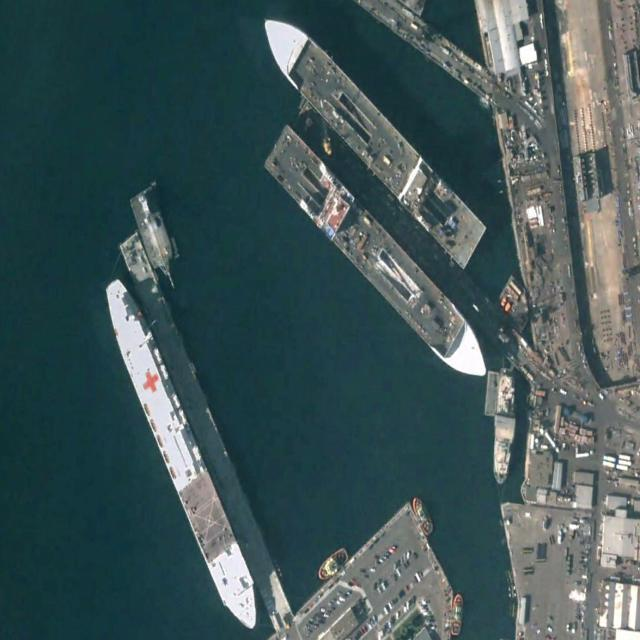Auxiliary Ships: (95, 269, 269, 640)
Cargo: (261, 121, 498, 396), (252, 1, 489, 270)
Other Ship: (490, 368, 520, 486), (408, 491, 438, 541), (314, 543, 349, 584), (451, 592, 464, 635)
